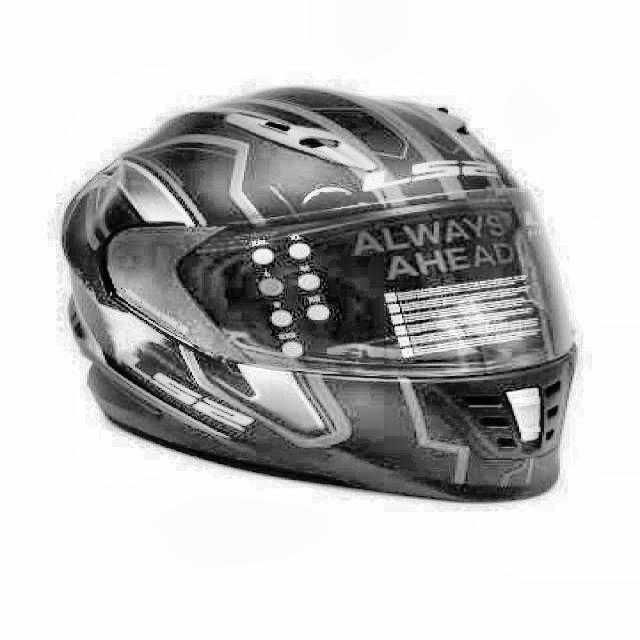Helmet: (38, 63, 582, 524)
